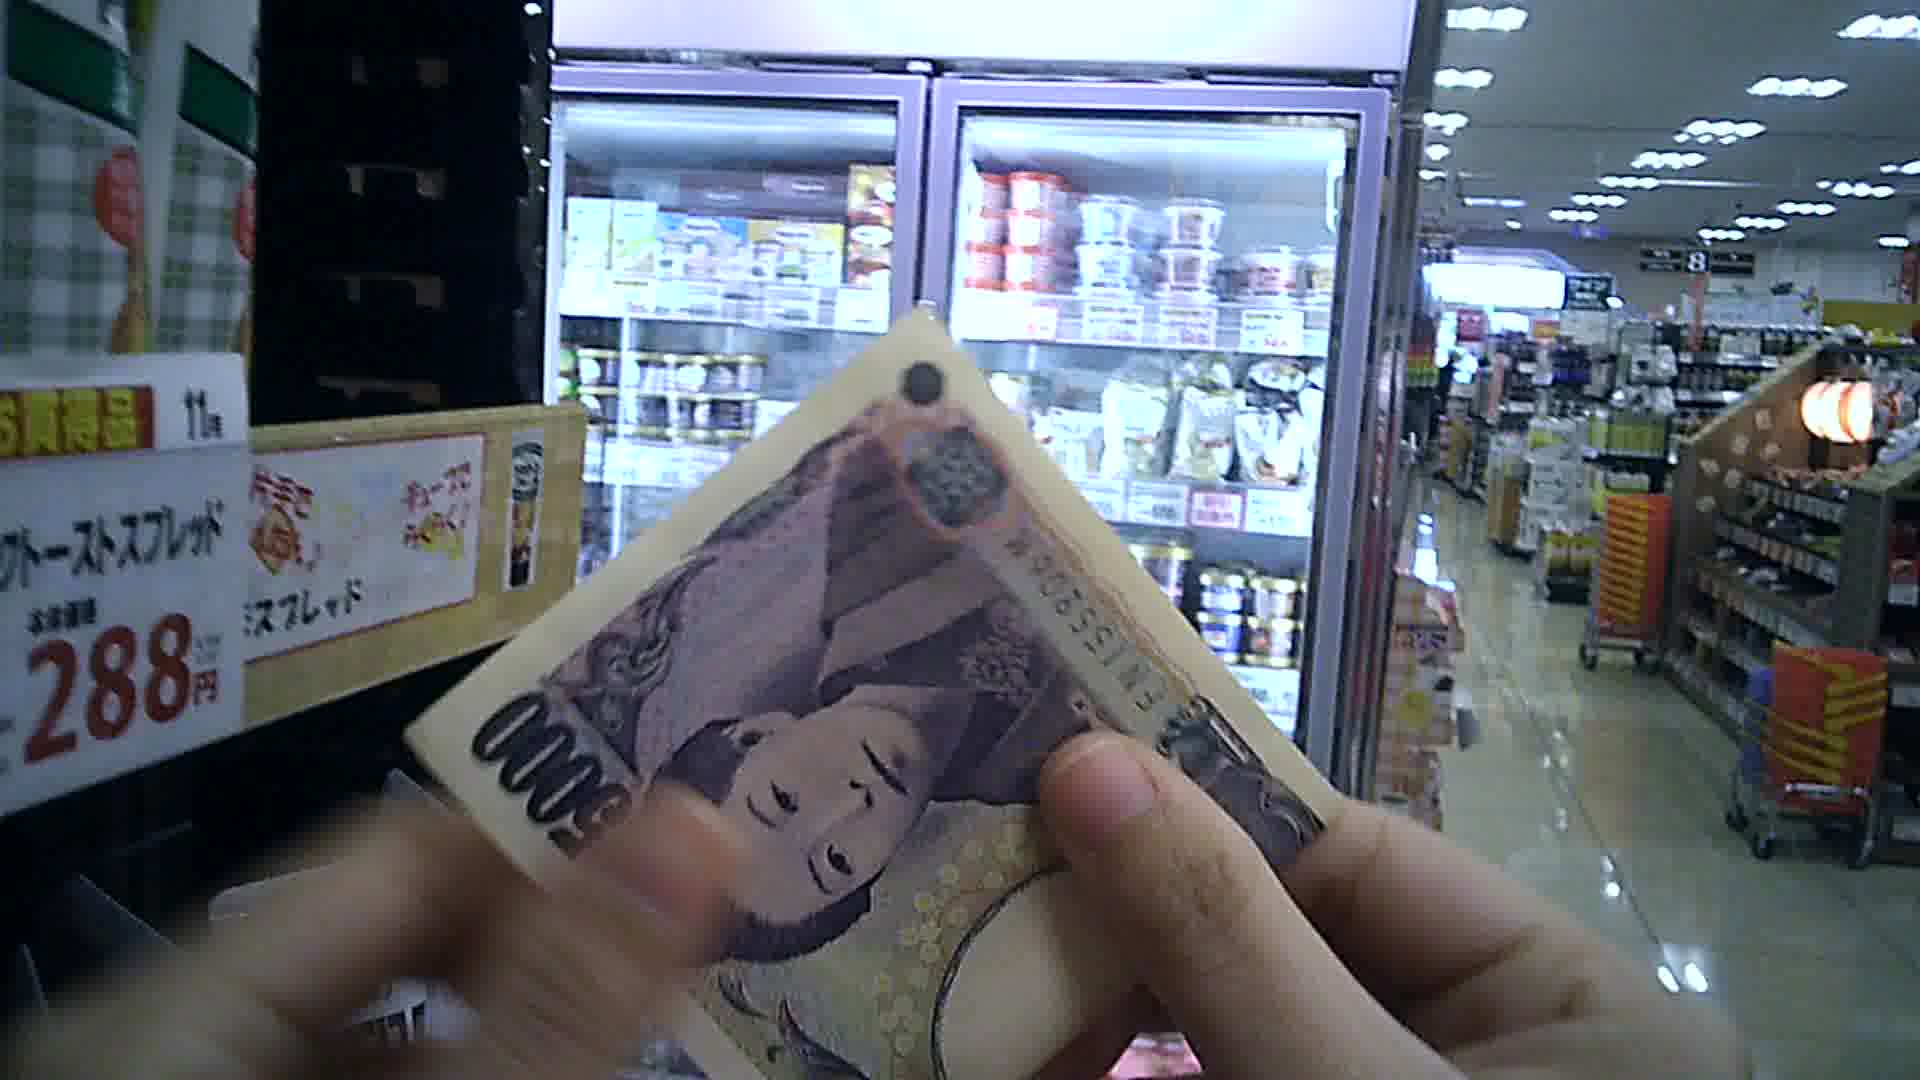5,000 Yen: (382, 315, 1350, 1079)
